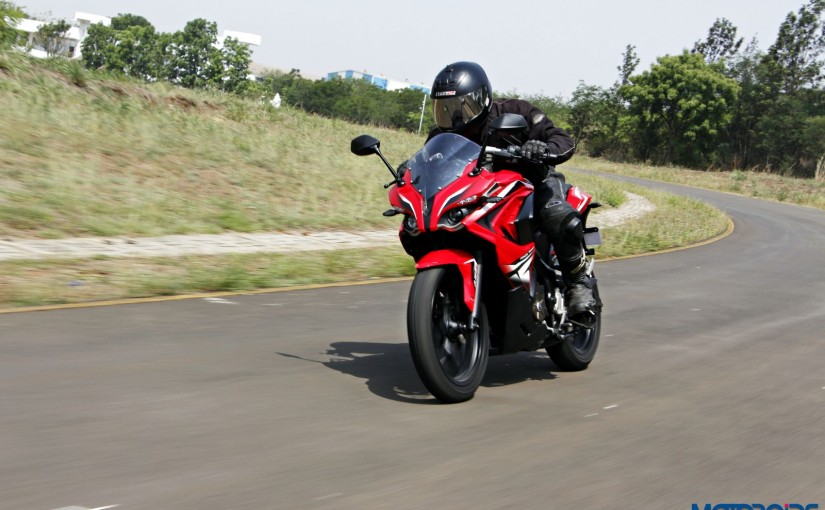helmet: (422, 40, 506, 151)
